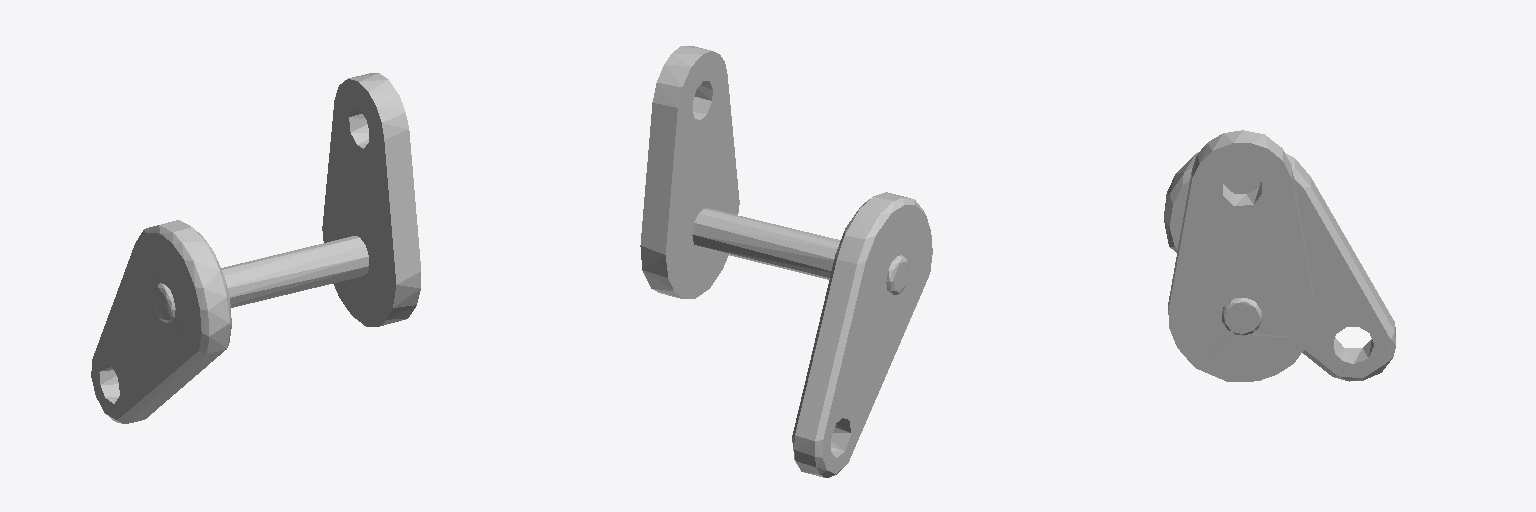
File: sidecam.obj
3 views of the same model, side by side, from view 1: azimuth 30°, elevation 25°; view 2: azimuth 150°, elevation 25°; view 3: azimuth 270°, elevation 25° (orthographic).
Visible parts, largest first — view 1: Side_Cam_Side_Cam.001; view 2: Side_Cam_Side_Cam.001; view 3: Side_Cam_Side_Cam.001.
Boxes of the visible parts, box(x1,y1,x2,y2) form: Side_Cam_Side_Cam.001: box(91, 73, 420, 423); Side_Cam_Side_Cam.001: box(640, 46, 932, 477); Side_Cam_Side_Cam.001: box(1164, 130, 1395, 381).
Size of the model in its own units: 0.1344 by 0.1871 by 0.1181.